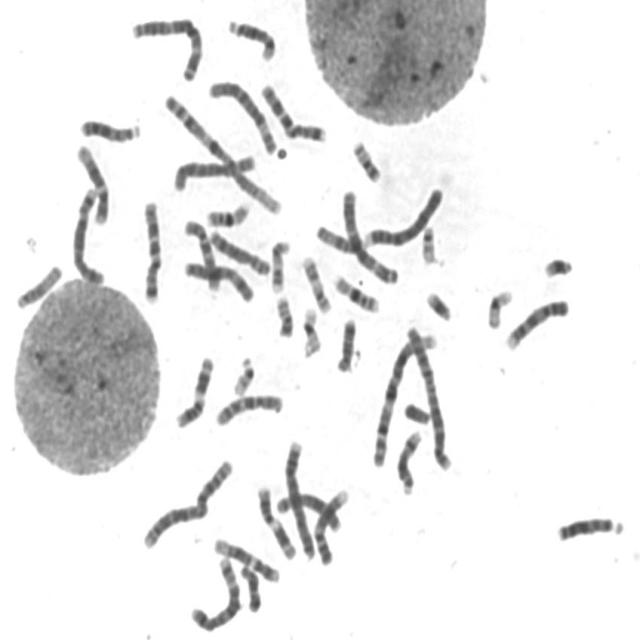A1: (159, 89, 285, 219), (367, 324, 441, 469)
A2: (138, 452, 236, 551), (401, 319, 454, 472)
A3: (338, 183, 400, 286), (126, 9, 205, 82)
B4: (360, 180, 446, 249), (279, 434, 316, 561)
B5: (186, 551, 243, 633), (67, 181, 106, 287)
C10: (180, 213, 222, 293), (211, 386, 285, 428)
C11: (252, 478, 299, 562), (170, 349, 216, 430)
C12: (209, 531, 282, 584), (72, 137, 112, 226)
C6: (204, 73, 278, 155), (168, 148, 258, 194)
C7: (256, 75, 328, 144), (137, 192, 164, 306)
C8: (203, 222, 272, 278), (270, 486, 345, 534)
C9: (501, 291, 571, 352), (310, 481, 352, 566)
D13: (552, 508, 626, 544), (76, 110, 142, 144)
D14: (223, 12, 278, 62), (392, 424, 423, 496)
D15: (11, 258, 64, 310), (312, 217, 369, 255)
E16: (328, 266, 382, 314), (201, 195, 253, 228)
E17: (297, 249, 333, 315), (266, 234, 292, 295)
E18: (332, 311, 359, 374), (235, 558, 263, 613)
F19: (482, 282, 516, 331), (296, 300, 324, 358)
F20: (348, 133, 383, 184), (271, 290, 296, 340)
G21: (421, 283, 455, 323), (539, 249, 576, 280)
G22: (228, 350, 257, 398), (416, 220, 438, 266)
X: (180, 254, 256, 304)
Y: (399, 395, 433, 426)
